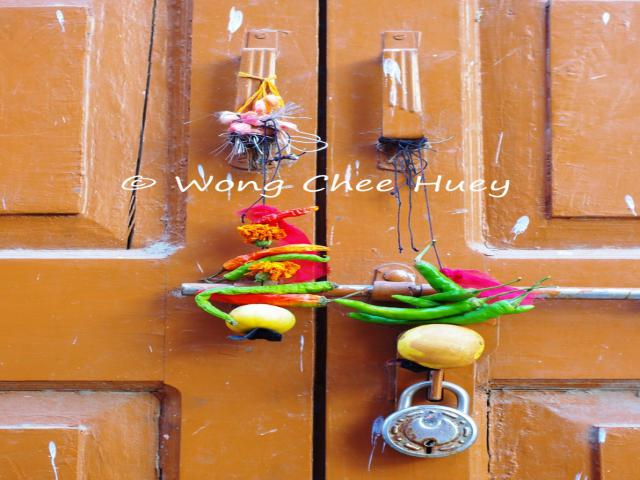Door-handle: (169, 260, 639, 420), (224, 26, 315, 172), (373, 27, 430, 172)
